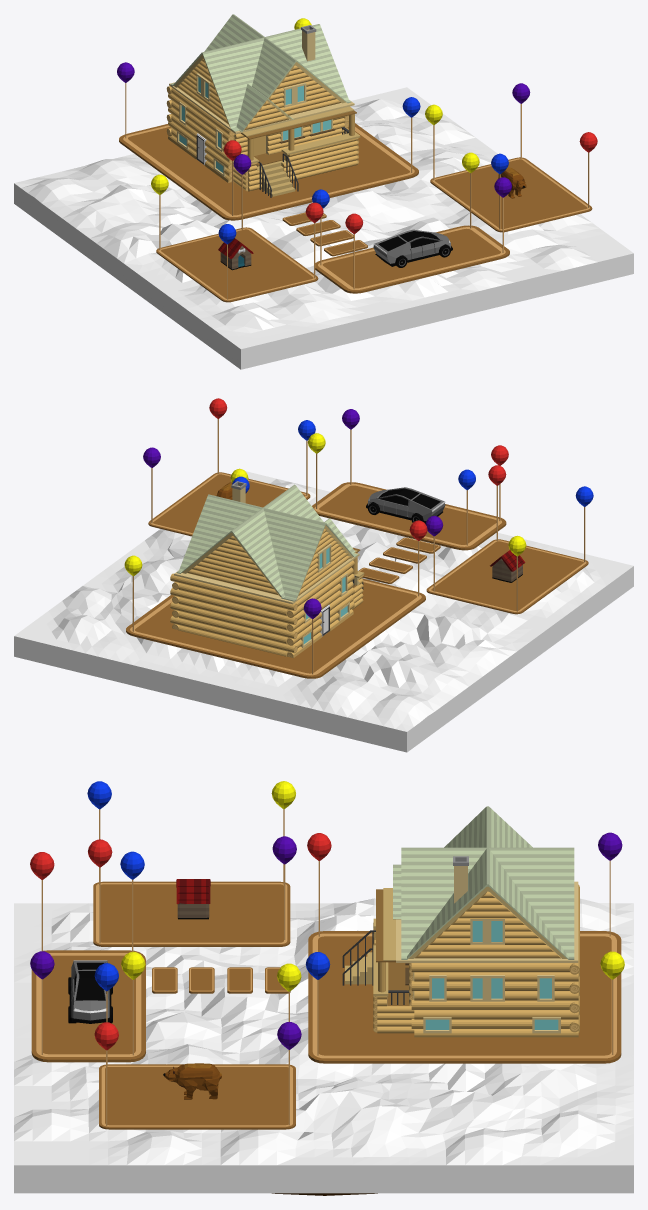
3 renders of one model, top to bottom at view 1: azimuth 30°, elevation 25°; view 2: azimuth 150°, elevation 25°; view 3: azimuth 270°, elevation 25°, orthographic. The views are drawn at different scales.
Visible parts, largest first — view 1: Cube.013, Cube.1516, VEHICLES_CYBERTRUCK, OBJRANDOM_DOGHOUSE; view 2: Cube.013, Cube.1516, VEHICLES_CYBERTRUCK, OBJRANDOM_DOGHOUSE; view 3: Cube.013, Cube.1516, VEHICLES_CYBERTRUCK, ANIMAL_OSO, OBJRANDOM_DOGHOUSE.
Boxes of the visible parts, x1,y1,x2,y2 form: Cube.013: (14, 18, 633, 369); Cube.1516: (166, 14, 360, 197); VEHICLES_CYBERTRUCK: (373, 229, 452, 267); OBJRANDOM_DOGHOUSE: (218, 238, 253, 270); Cube.013: (14, 398, 633, 752); Cube.1516: (170, 481, 364, 657); VEHICLES_CYBERTRUCK: (366, 487, 445, 523); OBJRANDOM_DOGHOUSE: (490, 550, 525, 582); Cube.013: (14, 781, 633, 1193); Cube.1516: (342, 806, 579, 1037); VEHICLES_CYBERTRUCK: (68, 960, 112, 1023); ANIMAL_OSO: (163, 1063, 221, 1099); OBJRANDOM_DOGHOUSE: (176, 879, 210, 919).
Size of the model in its own units: 4000 by 1754 by 4000.
Materials: 40 (2 with a texture image).
